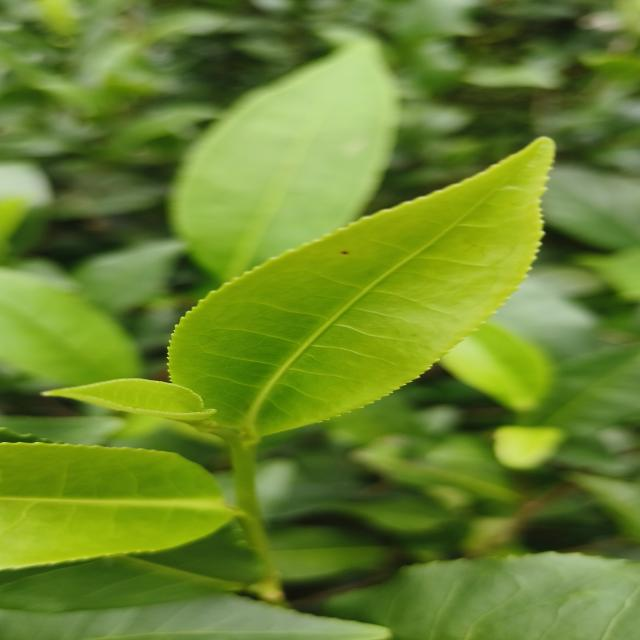Leaf: (169, 138, 553, 436), (171, 38, 397, 281), (0, 443, 232, 569), (325, 552, 640, 640), (0, 523, 262, 613), (0, 268, 141, 388), (524, 344, 640, 435), (438, 323, 552, 412), (543, 164, 640, 250), (74, 239, 183, 314), (43, 378, 215, 422), (270, 526, 387, 583)
